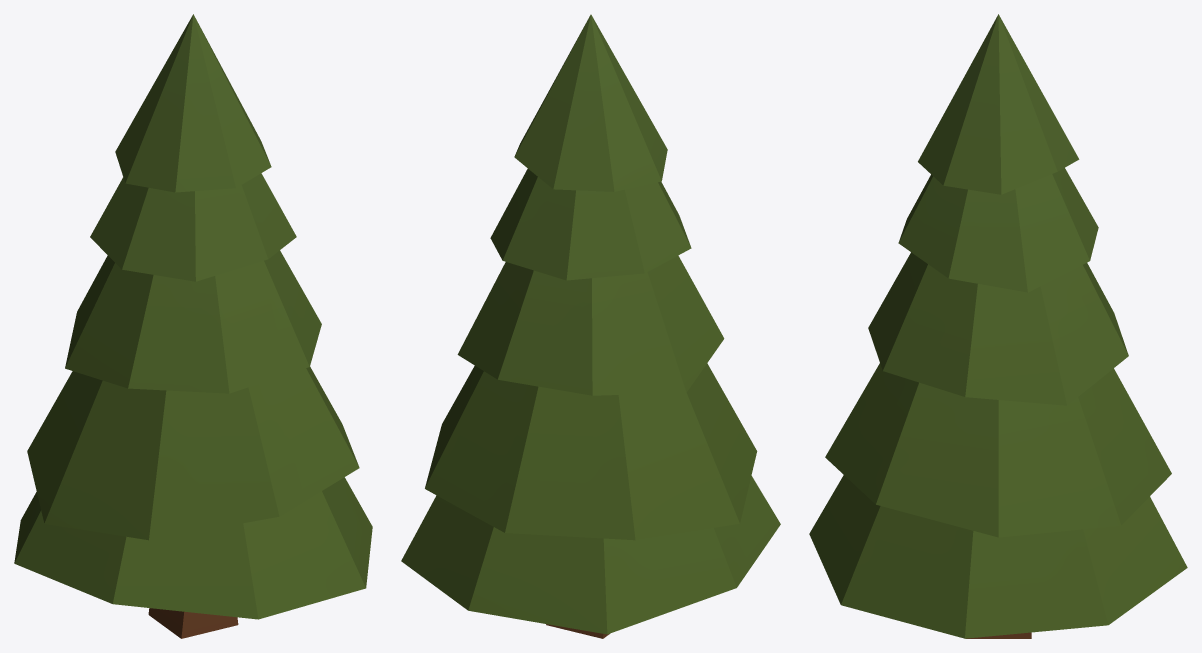
The model's file is tree2.glb.
3 views of the same model, side by side, from view 1: azimuth 30°, elevation 25°; view 2: azimuth 150°, elevation 25°; view 3: azimuth 270°, elevation 25° (orthographic).
Visible parts, largest first — view 1: Medium pine; view 2: Medium pine; view 3: Medium pine.
Boxes of the visible parts, x1,y1,x2,y2 form: Medium pine: (14, 14, 372, 638); Medium pine: (401, 14, 780, 638); Medium pine: (809, 14, 1187, 638).
Size of the model in its own units: 1.65 by 2.93 by 1.65.
Materials: 1 (1 with a texture image).
